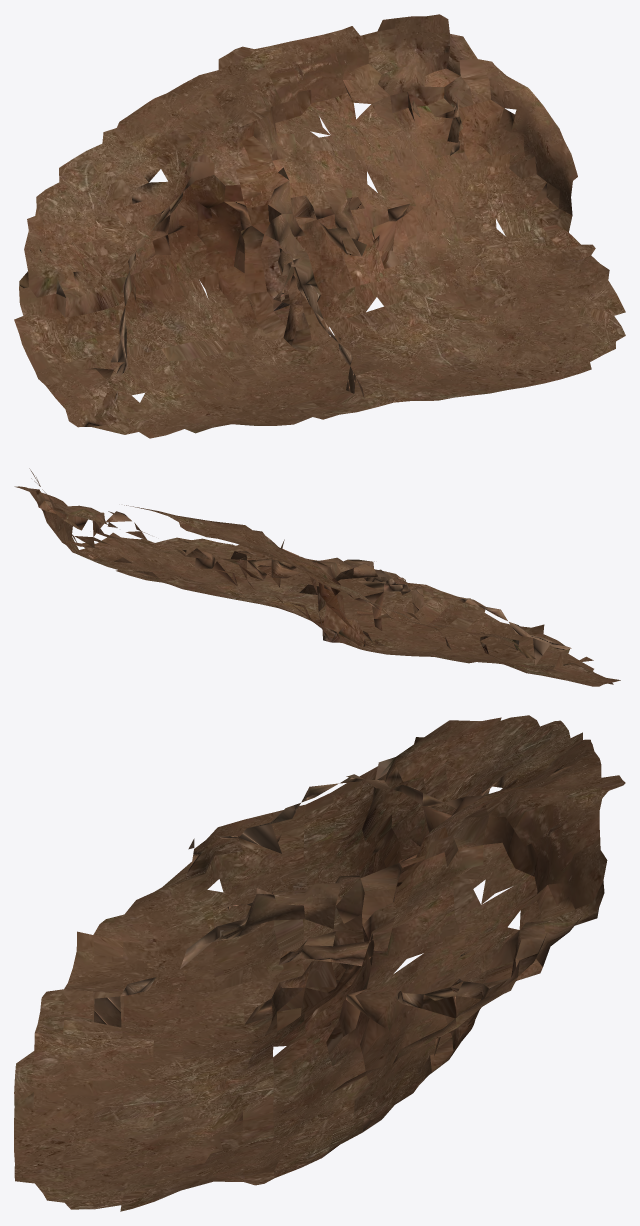
The model's file is raizes.glb.
3 renders of one model, top to bottom at view 1: azimuth 30°, elevation 25°; view 2: azimuth 150°, elevation 25°; view 3: azimuth 270°, elevation 25°, orthographic. The views are drawn at different scales.
Parts seen in each view (by area): view 1: raizes; view 2: raizes; view 3: raizes.
Boxes of the visible parts, x1,y1,x2,y2 form: raizes: (14,14,625,438); raizes: (14,468,620,686); raizes: (14,715,625,1211).
Size of the model in its own units: 4.03 by 1.46 by 2.66.
1 material, 1 textured.
